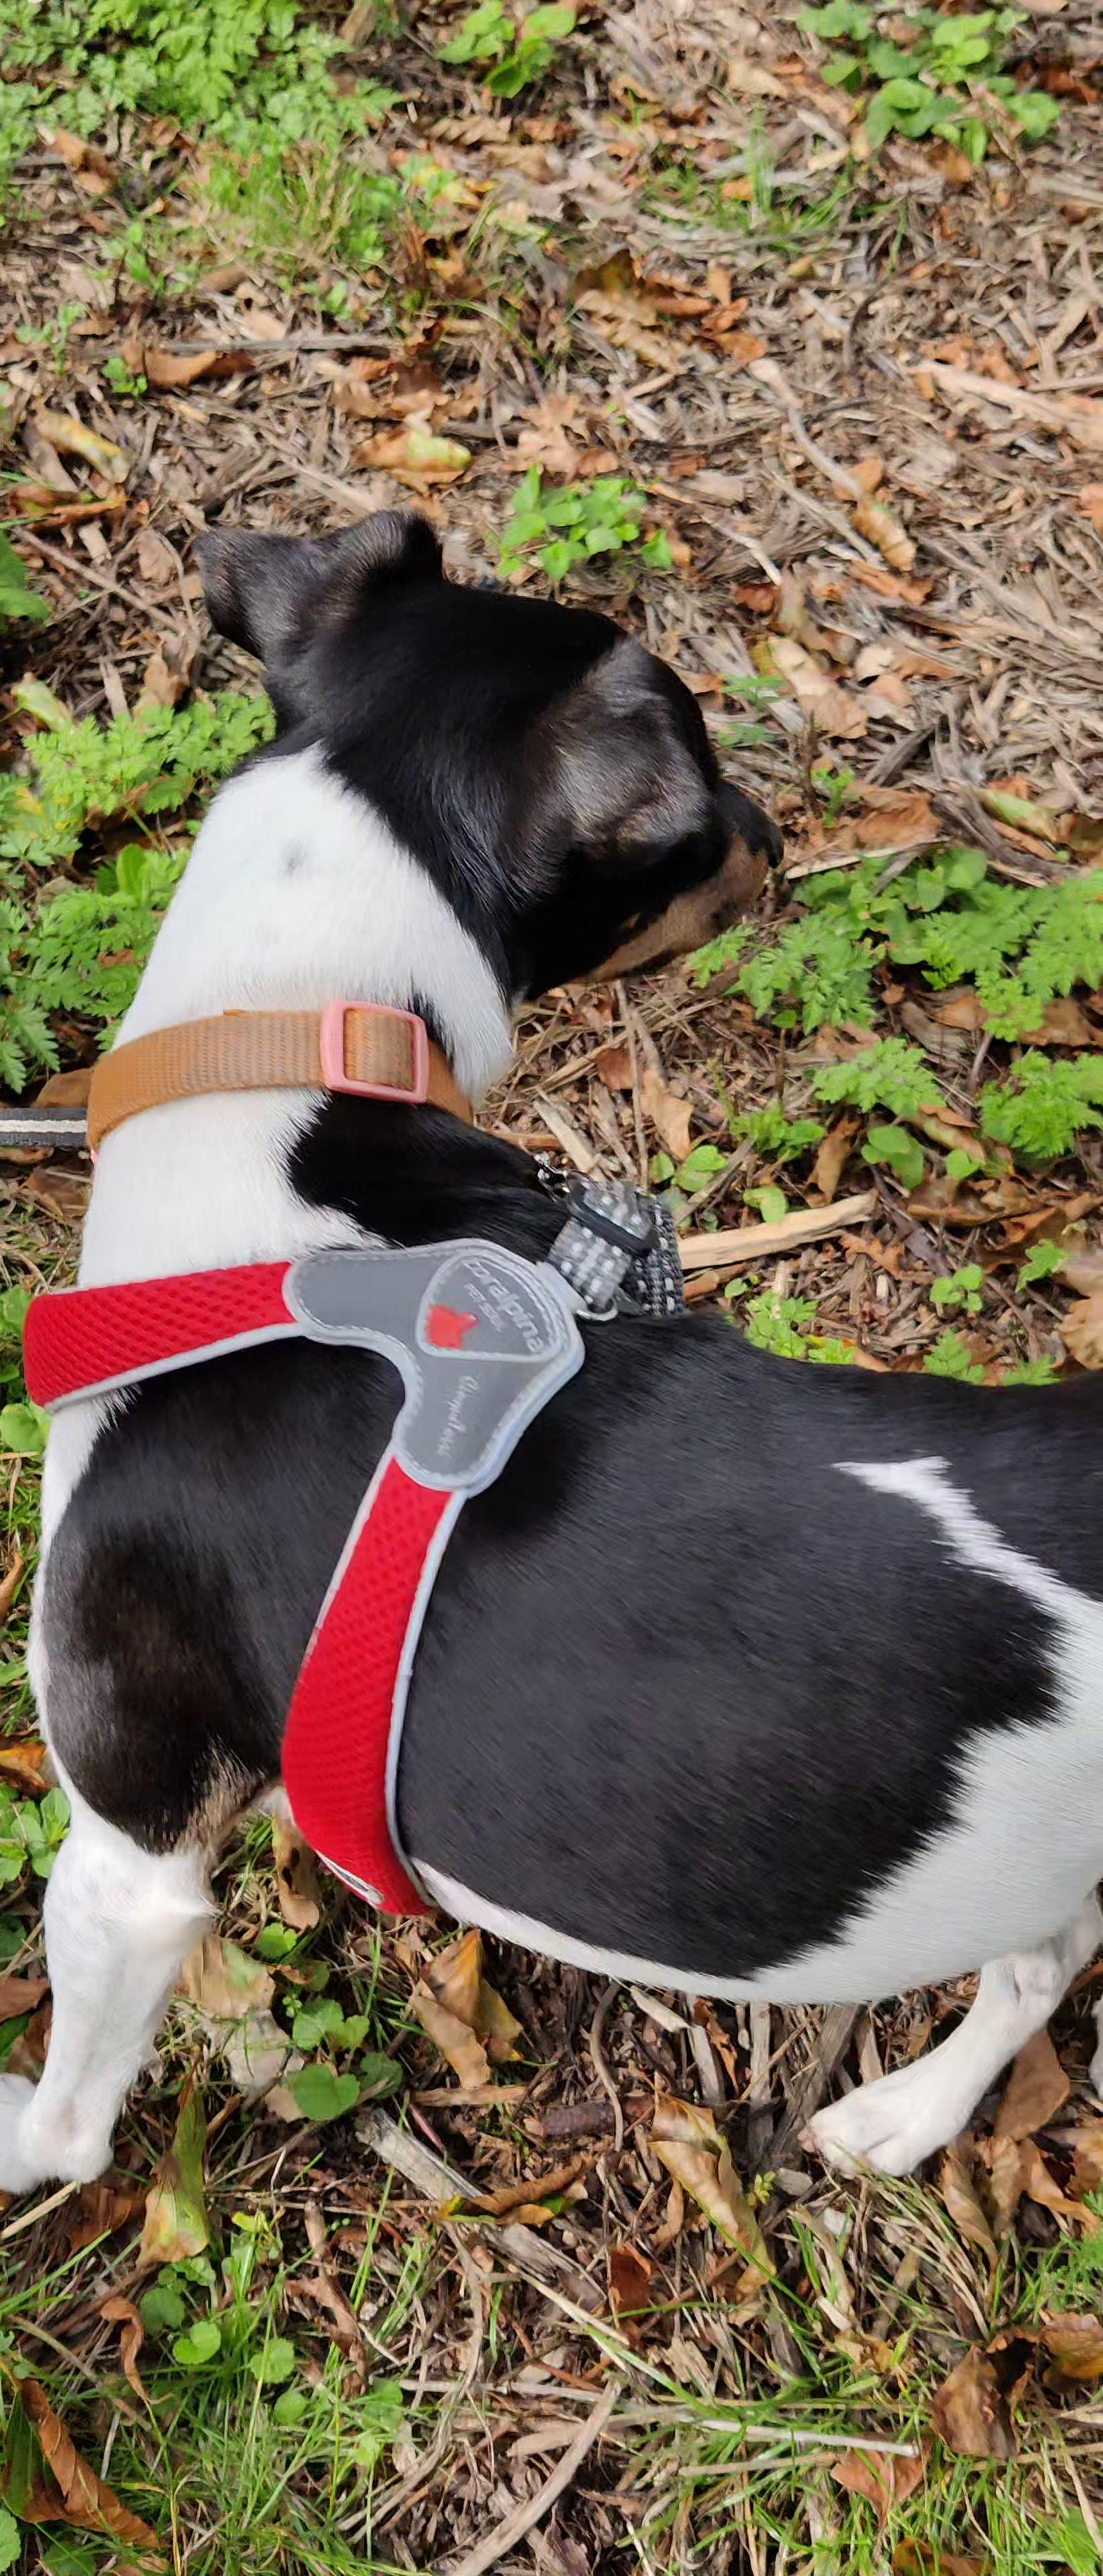Dog: (0, 486, 1103, 2261)
